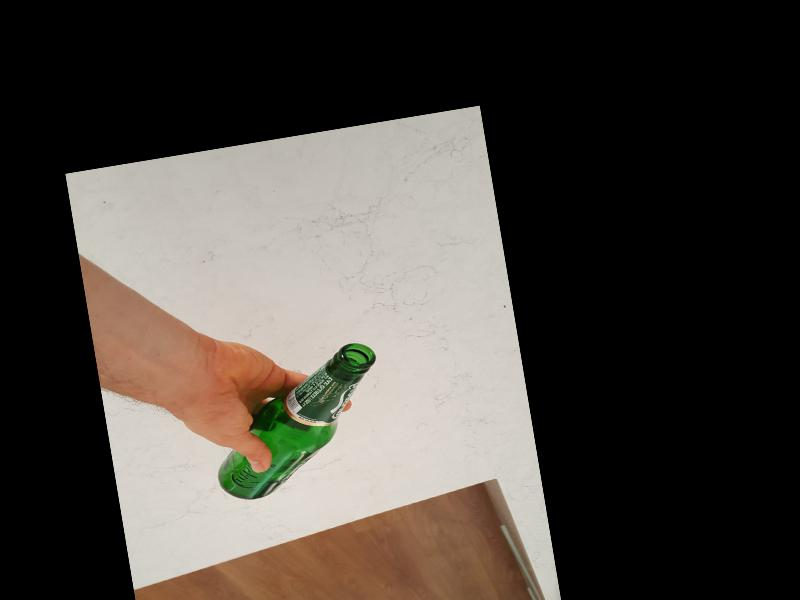Beer: (201, 337, 396, 503)
